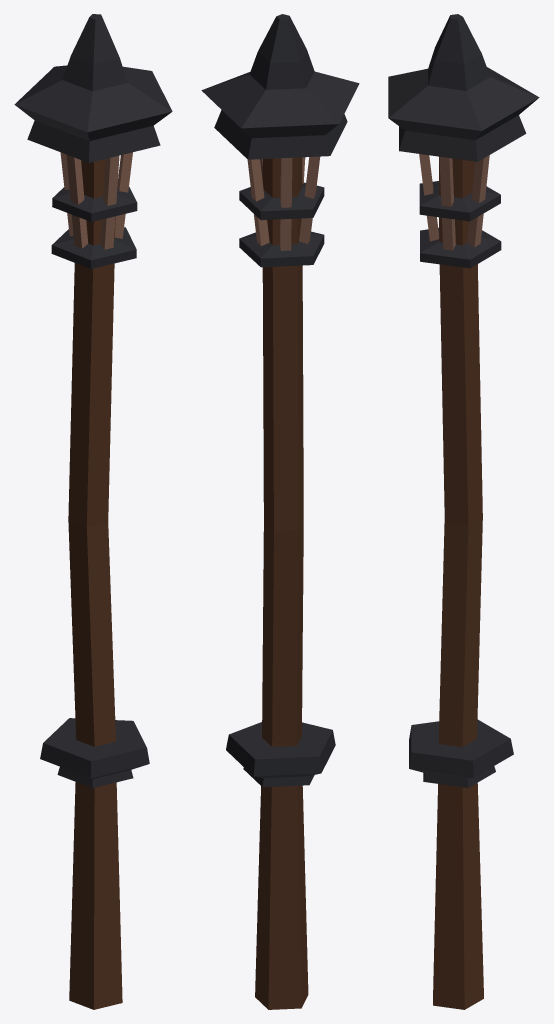
Rendered from LPWarPack_Mast.fbx.
The picture shows the model from 3 angles, left to right: view 1: azimuth 30°, elevation 25°; view 2: azimuth 150°, elevation 25°; view 3: azimuth 270°, elevation 25°; orthographic projection.
Parts seen in each view (by area): view 1: Mast; view 2: Mast; view 3: Mast.
Boxes of the visible parts, bbox=[...] form: Mast: bbox=[14, 14, 172, 1009]; Mast: bbox=[201, 14, 359, 1009]; Mast: bbox=[388, 14, 539, 1009].
Size of the model in its own units: 80.74 by 550 by 76.79.
